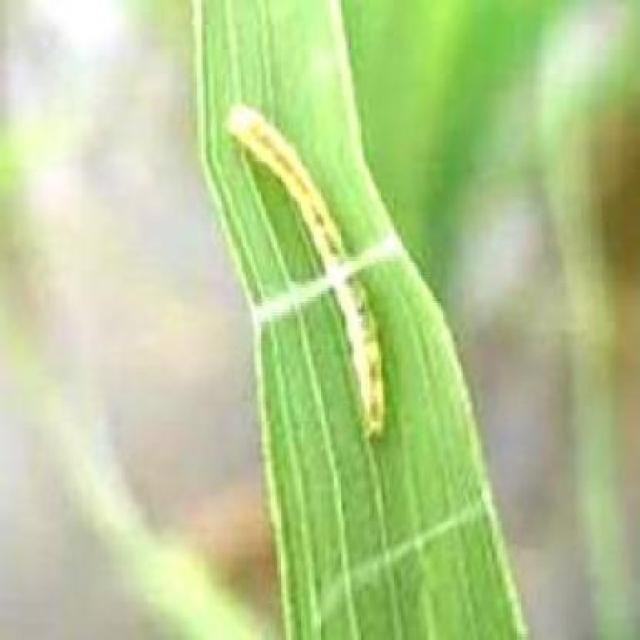leaf-folder: (198, 70, 430, 448)
